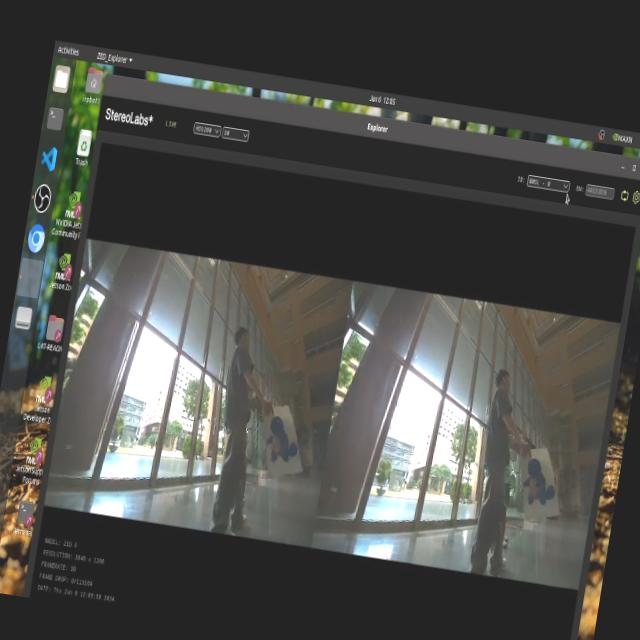blue: (515, 448, 565, 510), (253, 412, 305, 464)
